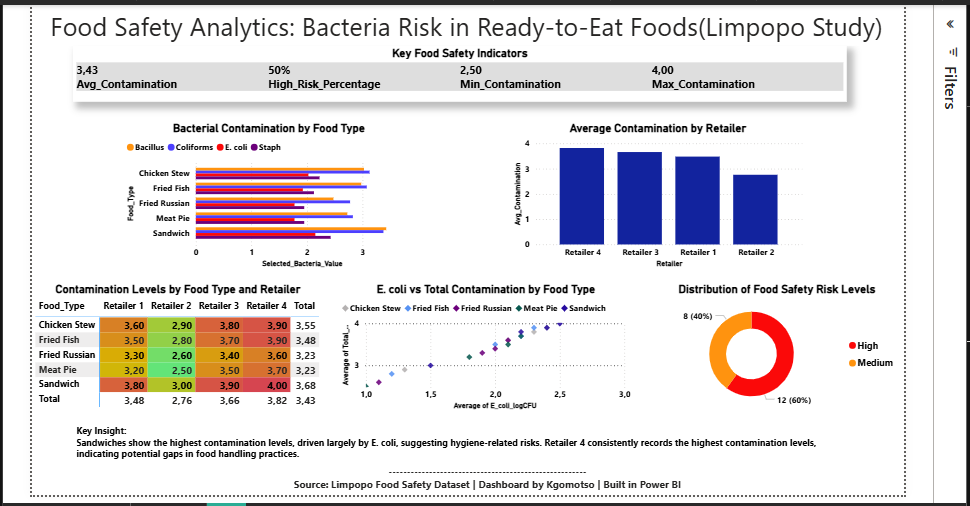

The page's visual inventory and layout, read from the dashboard file:
{"tool":"powerbi","page":{"name":"Page 1","canvas":[1280,720],"ordinal":0},"visuals":[{"type":"clusteredBarChart","title":"Bacterial Contamination by Food Type","fields":{"Category":["LfoodSafety.Food_Type"],"Series":["Bacterias.Bacteria"],"Y":["Bacterias.Selected_Bacteria_Value"]},"box":[133.7,170.4,429.1,220.4],"z":0},{"type":"clusteredColumnChart","title":"Average Contamination by Retailer","fields":{"Category":["LfoodSafety.Retailer"],"Y":["LfoodSafety.Avg_Contamination"]},"box":[702.4,170.4,434.9,220.4],"z":1000},{"type":"scatterChart","title":"E. coli vs Total Contamination by Food Type","fields":{"X":["Avg(LfoodSafety.E_coli_logCFU)"],"Y":["Avg(LfoodSafety.Total_Plate_Count_logCFU)"],"Series":["LfoodSafety.Food_Type"],"Category":["LfoodSafety.Sample_ID"]},"box":[449.6,407,434.9,192.5],"z":2000},{"type":"donutChart","title":"Distribution of Food Safety Risk Levels","fields":{"Category":["LfoodSafety.Risk_Level"],"Y":["CountNonNull(LfoodSafety.Sample_ID)"]},"box":[909.6,407,370.3,192.5],"z":3000},{"type":"pivotTable","title":"Contamination Levels by Food Type and Retailer","fields":{"Rows":["LfoodSafety.Food_Type"],"Columns":["LfoodSafety.Retailer"],"Values":["LfoodSafety.Avg_Contamination"]},"box":[0,407,429.1,192.5],"z":4000},{"type":"multiRowCard","title":"Key Food Safety Indicators","fields":{"Values":["LfoodSafety.Avg_Contamination","LfoodSafety.High_Risk_Percentage","LfoodSafety.Min_Contamination","LfoodSafety.Max_Contamination"]},"box":[60.2,60.2,1137.3,82.3],"z":5000},{"type":"textbox","box":[10.3,0,1256.3,60.2],"z":6000},{"type":"textbox","box":[60.2,611.3,1149.1,76.4],"z":7000},{"type":"textbox","box":[327.7,671.5,683.3,48.5],"z":8000}]}

Visuals, with their boxes on the page's 1280x720 design canvas (x1, y1, x2, y2). These are canvas units, not pixel positions in the 970x506 screenshot, which may show the page scaled, cropped or inside an application window:
"Bacterial Contamination by Food Type" clusteredBarChart: (134, 170, 563, 391)
"Average Contamination by Retailer" clusteredColumnChart: (702, 170, 1137, 391)
"E. coli vs Total Contamination by Food Type" scatterChart: (450, 407, 884, 600)
"Distribution of Food Safety Risk Levels" donutChart: (910, 407, 1280, 600)
"Contamination Levels by Food Type and Retailer" pivotTable: (0, 407, 429, 600)
"Key Food Safety Indicators" multiRowCard: (60, 60, 1198, 142)
textbox: (10, 0, 1267, 60)
textbox: (60, 611, 1209, 688)
textbox: (328, 672, 1011, 720)
